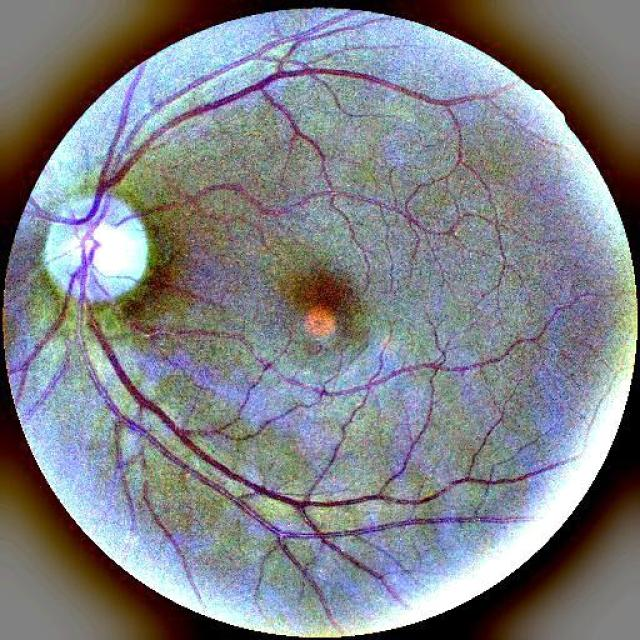Macula: (281, 271, 362, 351)
Nerves: (65, 264, 309, 579), (48, 79, 138, 299), (96, 101, 221, 195), (100, 78, 206, 184), (19, 280, 75, 391), (240, 81, 264, 94)
Optic Disk: (43, 199, 145, 300)
